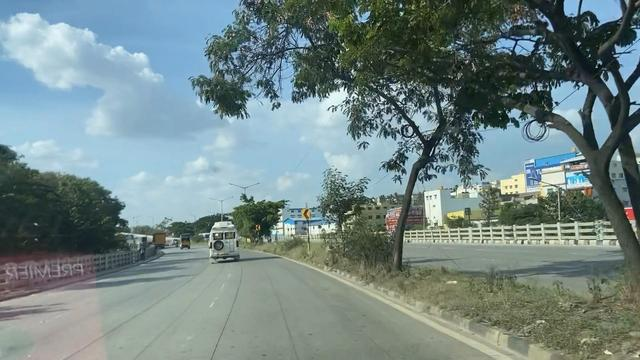HMV: (206, 215, 238, 260)
